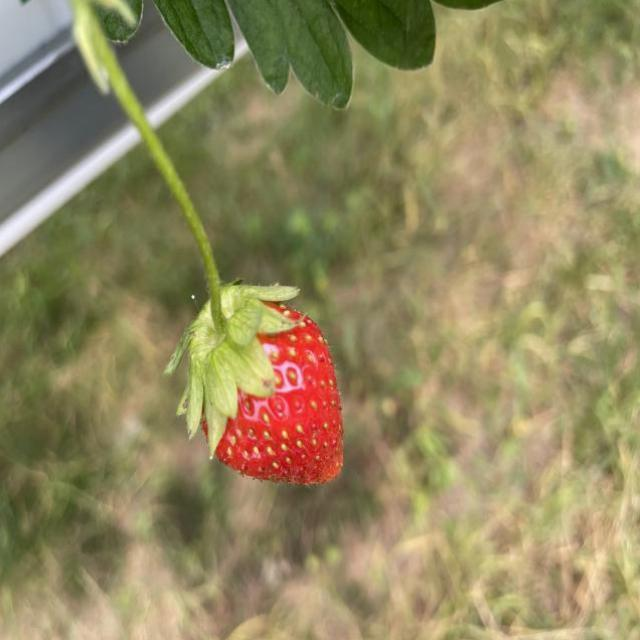stem: (68, 0, 295, 453)
strawberryR: (215, 320, 343, 483)
